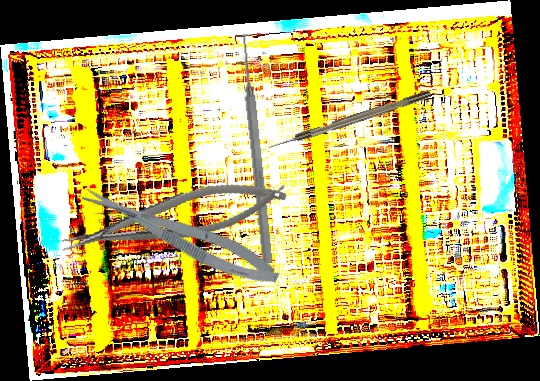Hook Surgical: (266, 89, 433, 152)
Micro Scissor: (78, 173, 285, 296)
Needle Holder: (55, 171, 293, 262)
Pusher: (236, 33, 276, 264)
